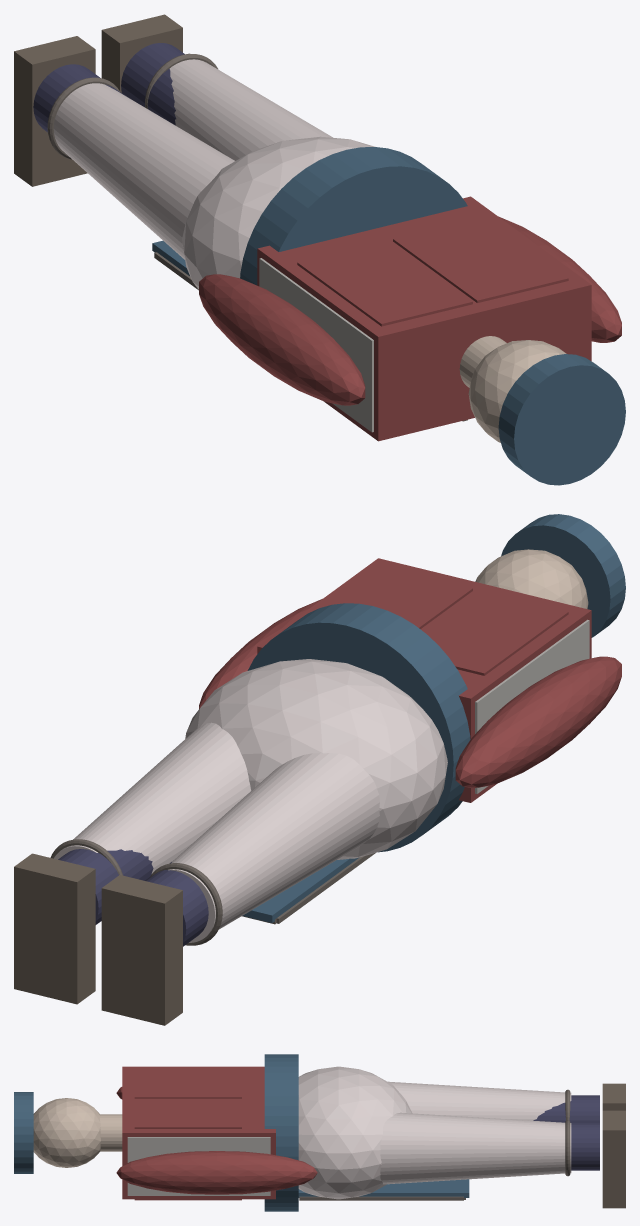
Rendered from MASTER_147_STAGE3_DETAIL.glb.
3 views of the same model, one above another, from view 1: azimuth 30°, elevation 25°; view 2: azimuth 150°, elevation 25°; view 3: azimuth 270°, elevation 25° (orthographic). The views are drawn at different scales.
Parts seen in each view (by area): view 1: slot_upper_inner__këmishë, slot_lower_main__dimi_L, slot_waist__brez, slot_headwear__mbulesë_koke, slot_upper_inner_sleeve_L, slot_lower_main__dimi_hip, slot_lower_main__dimi_R, slot_upper_outer__jelek/xhamadan_R, slot_upper_outer__jelek/xhamadan_L, slot_footwear__opinga_L, mannequin_torso, mannequin_head (+6 smaller); view 2: slot_lower_main__dimi_hip, slot_lower_main__dimi_L, slot_waist__brez, slot_lower_main__dimi_R, slot_footwear__opinga_R, slot_footwear__opinga_L, slot_upper_inner_sleeve_L, slot_upper_outer__jelek/xhamadan_L, slot_headwear__mbulesë_koke, slot_upper_inner__këmishë, slot_upper_outer__jelek/xhamadan_R, mannequin_head (+7 smaller); view 3: slot_lower_main__dimi_R, slot_lower_main__dimi_hip, slot_upper_inner_sleeve_R, slot_upper_inner__këmishë, slot_lower_main__dimi_L, mannequin_head, slot_waist__brez, slot_upper_outer__jelek/xhamadan_R, slot_upper_outer__jelek/xhamadan_L, mannequin_torso, slot_footwear__opinga_R, slot_headwear__mbulesë_koke (+7 smaller).
Part boxes in pixels (x1,y1,x2,y2): slot_upper_inner__këmishë: (257, 196, 591, 441); slot_lower_main__dimi_L: (53, 83, 234, 259); slot_waist__brez: (240, 147, 467, 285); slot_headwear__mbulesë_koke: (498, 354, 625, 485); slot_upper_inner_sleeve_L: (199, 274, 365, 405); slot_lower_main__dimi_hip: (182, 136, 375, 289); slot_lower_main__dimi_R: (169, 59, 332, 160); slot_upper_outer__jelek/xhamadan_R: (393, 216, 568, 302); slot_upper_outer__jelek/xhamadan_L: (297, 240, 472, 326); slot_footwear__opinga_L: (14, 36, 95, 186); mannequin_torso: (259, 258, 373, 432); mannequin_head: (468, 340, 566, 442); slot_lower_main__dimi_hip: (185, 659, 447, 859); slot_lower_main__dimi_L: (168, 753, 379, 942); slot_waist__brez: (247, 603, 470, 852); slot_lower_main__dimi_R: (54, 722, 251, 873); slot_footwear__opinga_R: (14, 853, 95, 1004); slot_footwear__opinga_L: (101, 875, 182, 1025); slot_upper_inner_sleeve_L: (455, 656, 621, 787); slot_upper_outer__jelek/xhamadan_L: (422, 589, 568, 675); slot_headwear__mbulesë_koke: (501, 514, 625, 637); slot_upper_inner__këmishë: (257, 558, 591, 802); slot_upper_outer__jelek/xhamadan_R: (327, 566, 472, 628); mannequin_head: (475, 549, 588, 608); slot_lower_main__dimi_R: (380, 1112, 571, 1184); slot_lower_main__dimi_hip: (298, 1066, 411, 1199); slot_upper_inner_sleeve_R: (116, 1151, 317, 1194); slot_upper_inner__këmishë: (122, 1066, 275, 1199); slot_lower_main__dimi_L: (388, 1081, 571, 1120); mannequin_head: (33, 1098, 100, 1167); slot_waist__brez: (264, 1054, 298, 1211); slot_upper_outer__jelek/xhamadan_R: (134, 1098, 241, 1200); slot_upper_outer__jelek/xhamadan_L: (134, 1069, 241, 1098); mannequin_torso: (127, 1137, 270, 1195); slot_footwear__opinga_R: (602, 1110, 625, 1208); slot_headwear__mbulesë_koke: (14, 1092, 33, 1173).
Size of the model in its own units: 0.6506 by 0.44 by 1.71.
